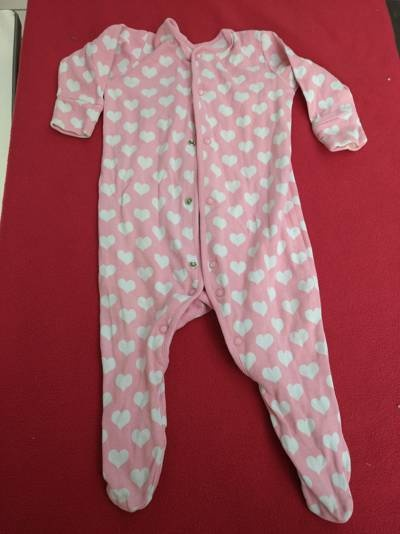Body: (30, 6, 379, 512)
